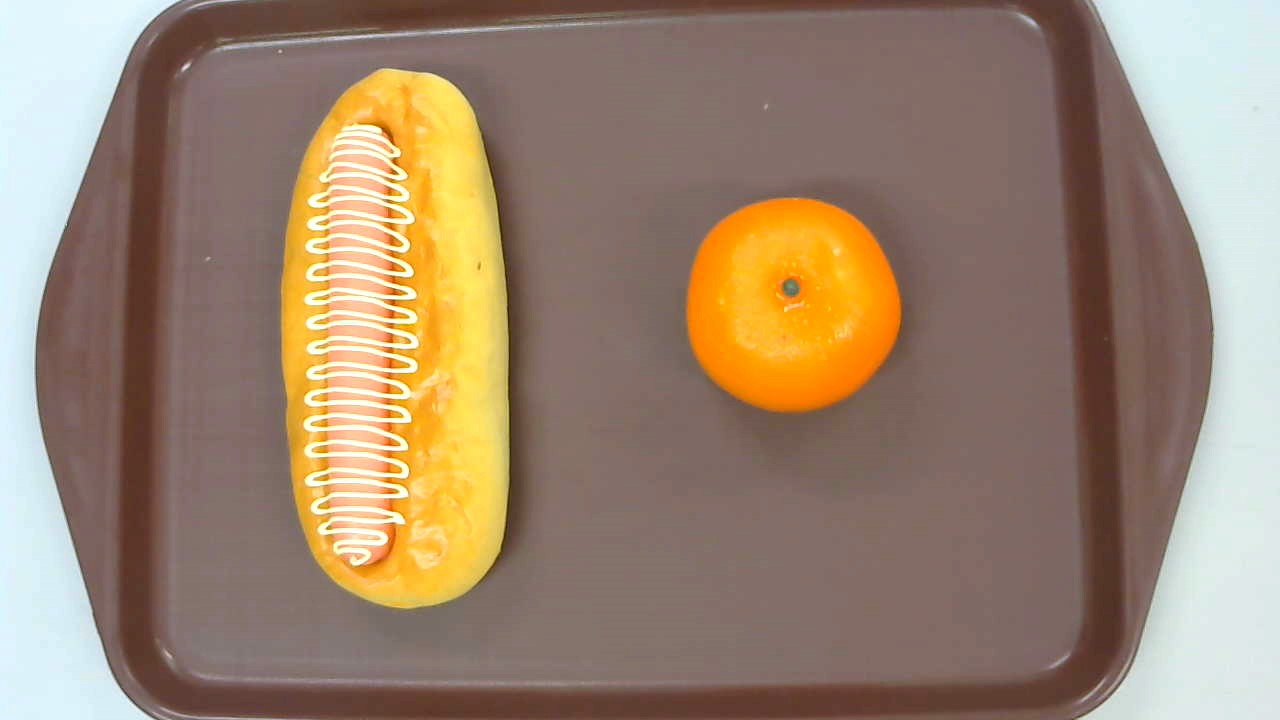hot dog: (279, 66, 511, 609)
orange: (683, 198, 902, 417)
